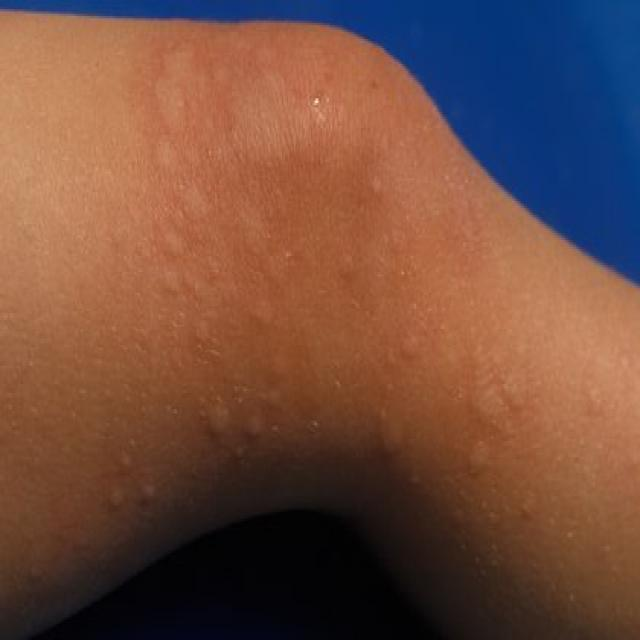hives: (35, 25, 624, 598)
